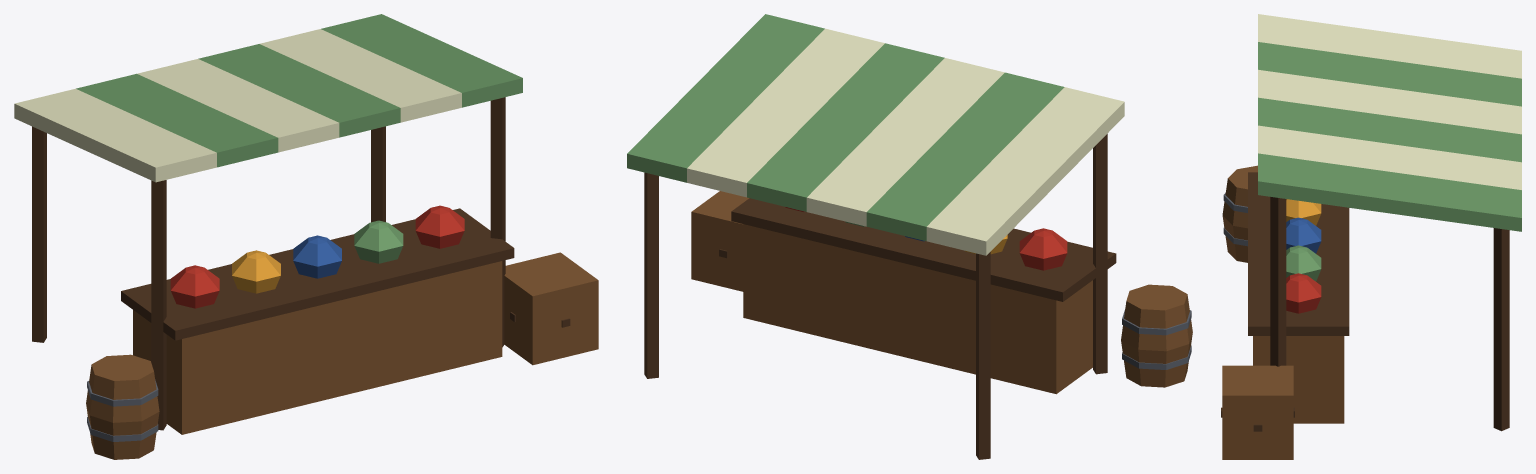
Rendered from stall_cloth_a.fbx.
The picture shows the model from 3 angles, left to right: view 1: azimuth 30°, elevation 25°; view 2: azimuth 150°, elevation 25°; view 3: azimuth 270°, elevation 25°; orthographic projection. The views are drawn at different scales.
Visible parts, largest first — view 1: stall_cloth_a; view 2: stall_cloth_a; view 3: stall_cloth_a.
Part boxes in pixels (<box>): stall_cloth_a: <box>14,14,598,459</box>; stall_cloth_a: <box>627,14,1192,459</box>; stall_cloth_a: <box>1221,14,1521,459</box>.
Bounding box in the file's own units: 5.21 × 2.75 × 2.96.
1 material, 1 textured.
